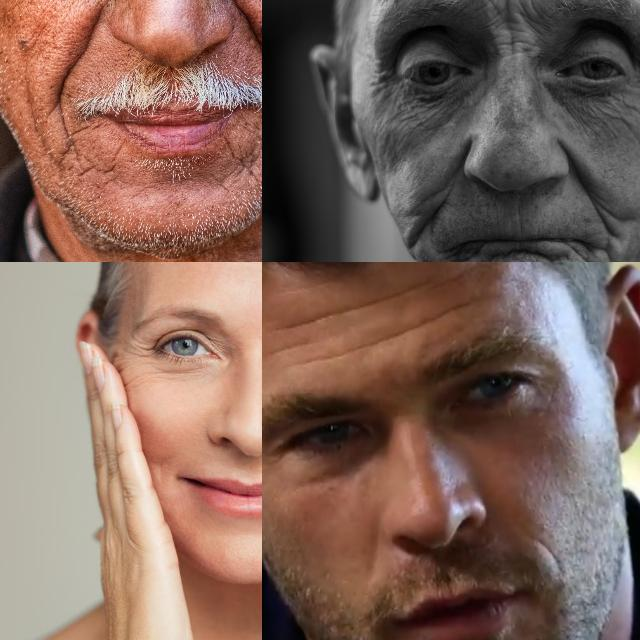chin: (62, 128, 121, 182), (224, 142, 262, 184), (520, 244, 574, 262), (467, 247, 507, 262)
crows_feet: (371, 62, 397, 94), (127, 340, 153, 362), (633, 61, 640, 98)
forehead: (282, 292, 434, 326), (344, 326, 420, 354), (267, 334, 311, 356), (438, 294, 474, 318), (300, 350, 340, 370)
frown_line: (485, 0, 538, 23), (496, 31, 534, 53)
gummy_smile: (56, 12, 106, 92), (231, 3, 262, 83), (431, 156, 467, 217), (564, 147, 596, 207), (406, 218, 429, 252), (594, 210, 620, 240)
sad_smile: (599, 241, 616, 262)
smoker_lines: (512, 202, 528, 230)
